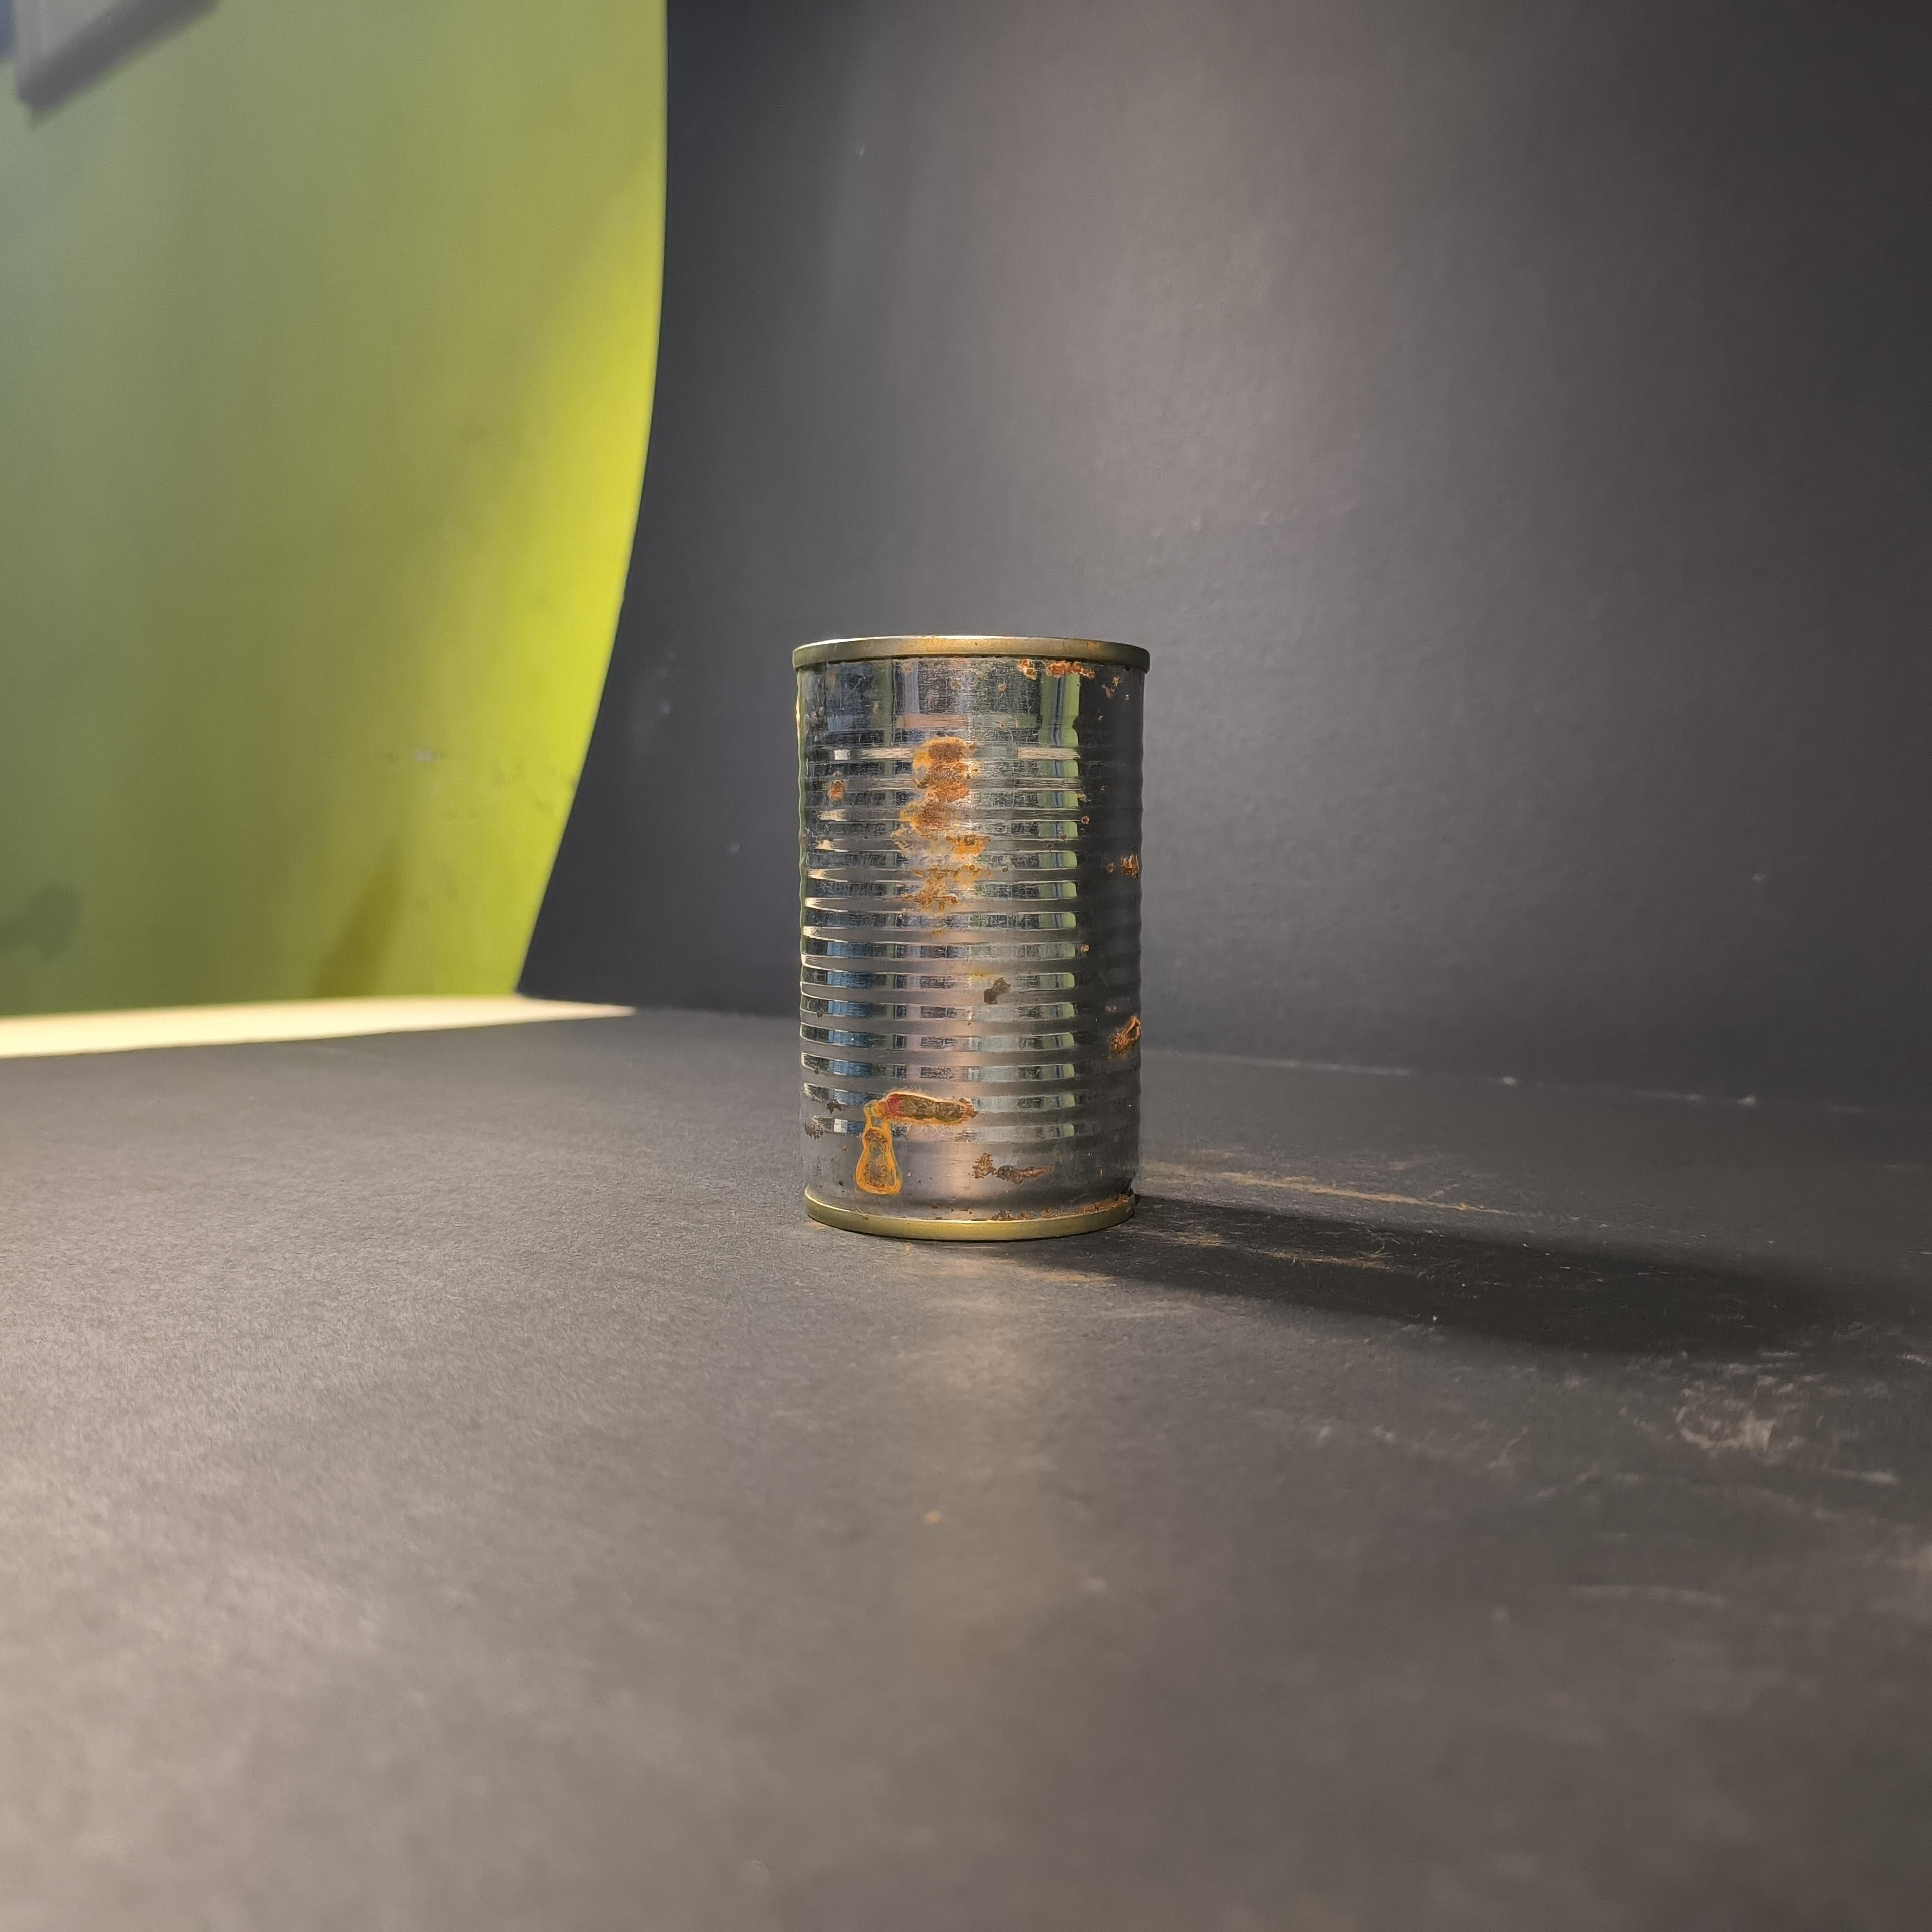Rusted: (773, 603, 1187, 1274)
